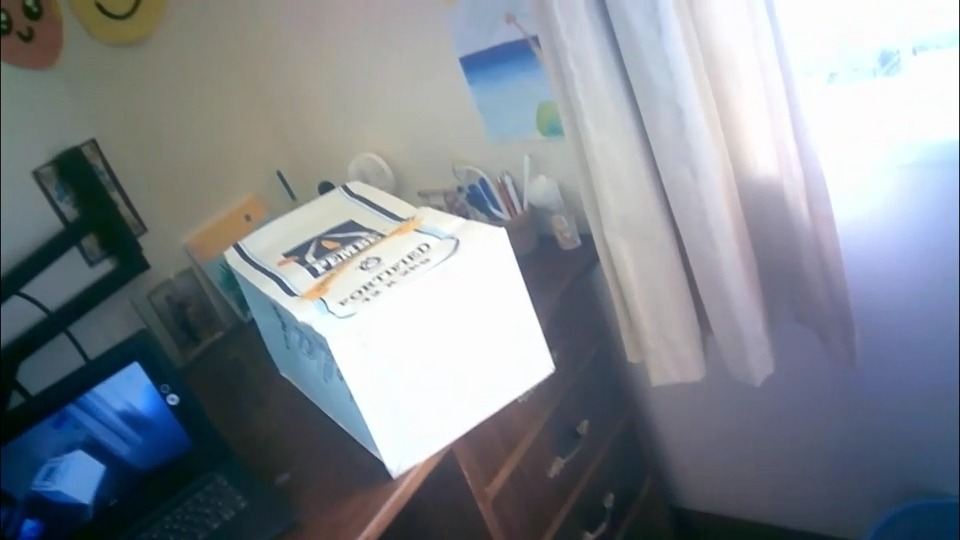wheat_flour_blue_label: (226, 178, 552, 472)
